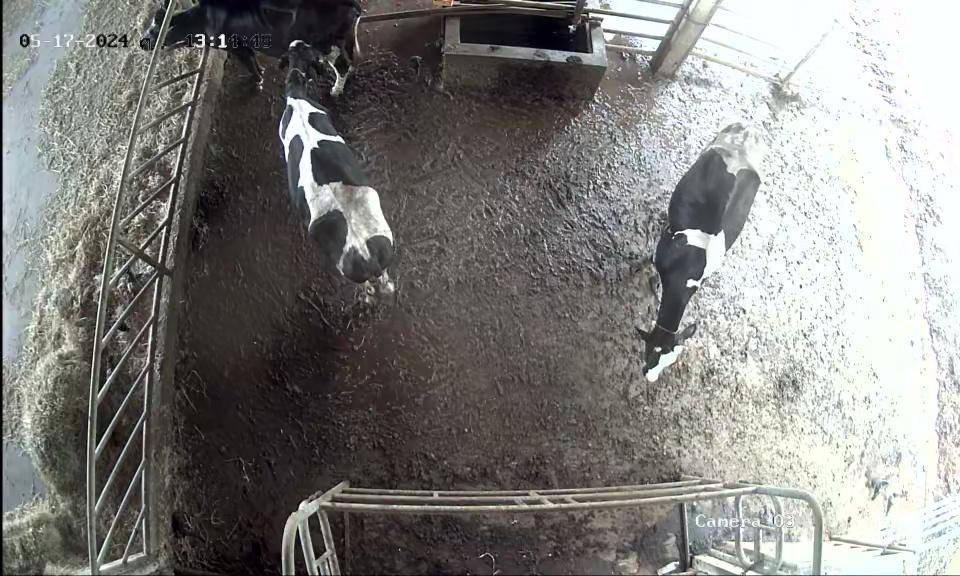eat: (118, 3, 228, 63)
stand: (607, 109, 772, 393), (264, 38, 408, 303)
